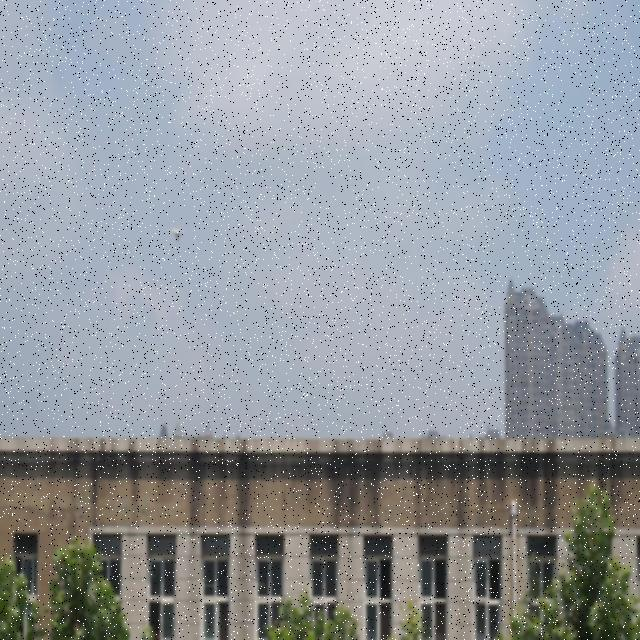UAV: (168, 228, 185, 243)
